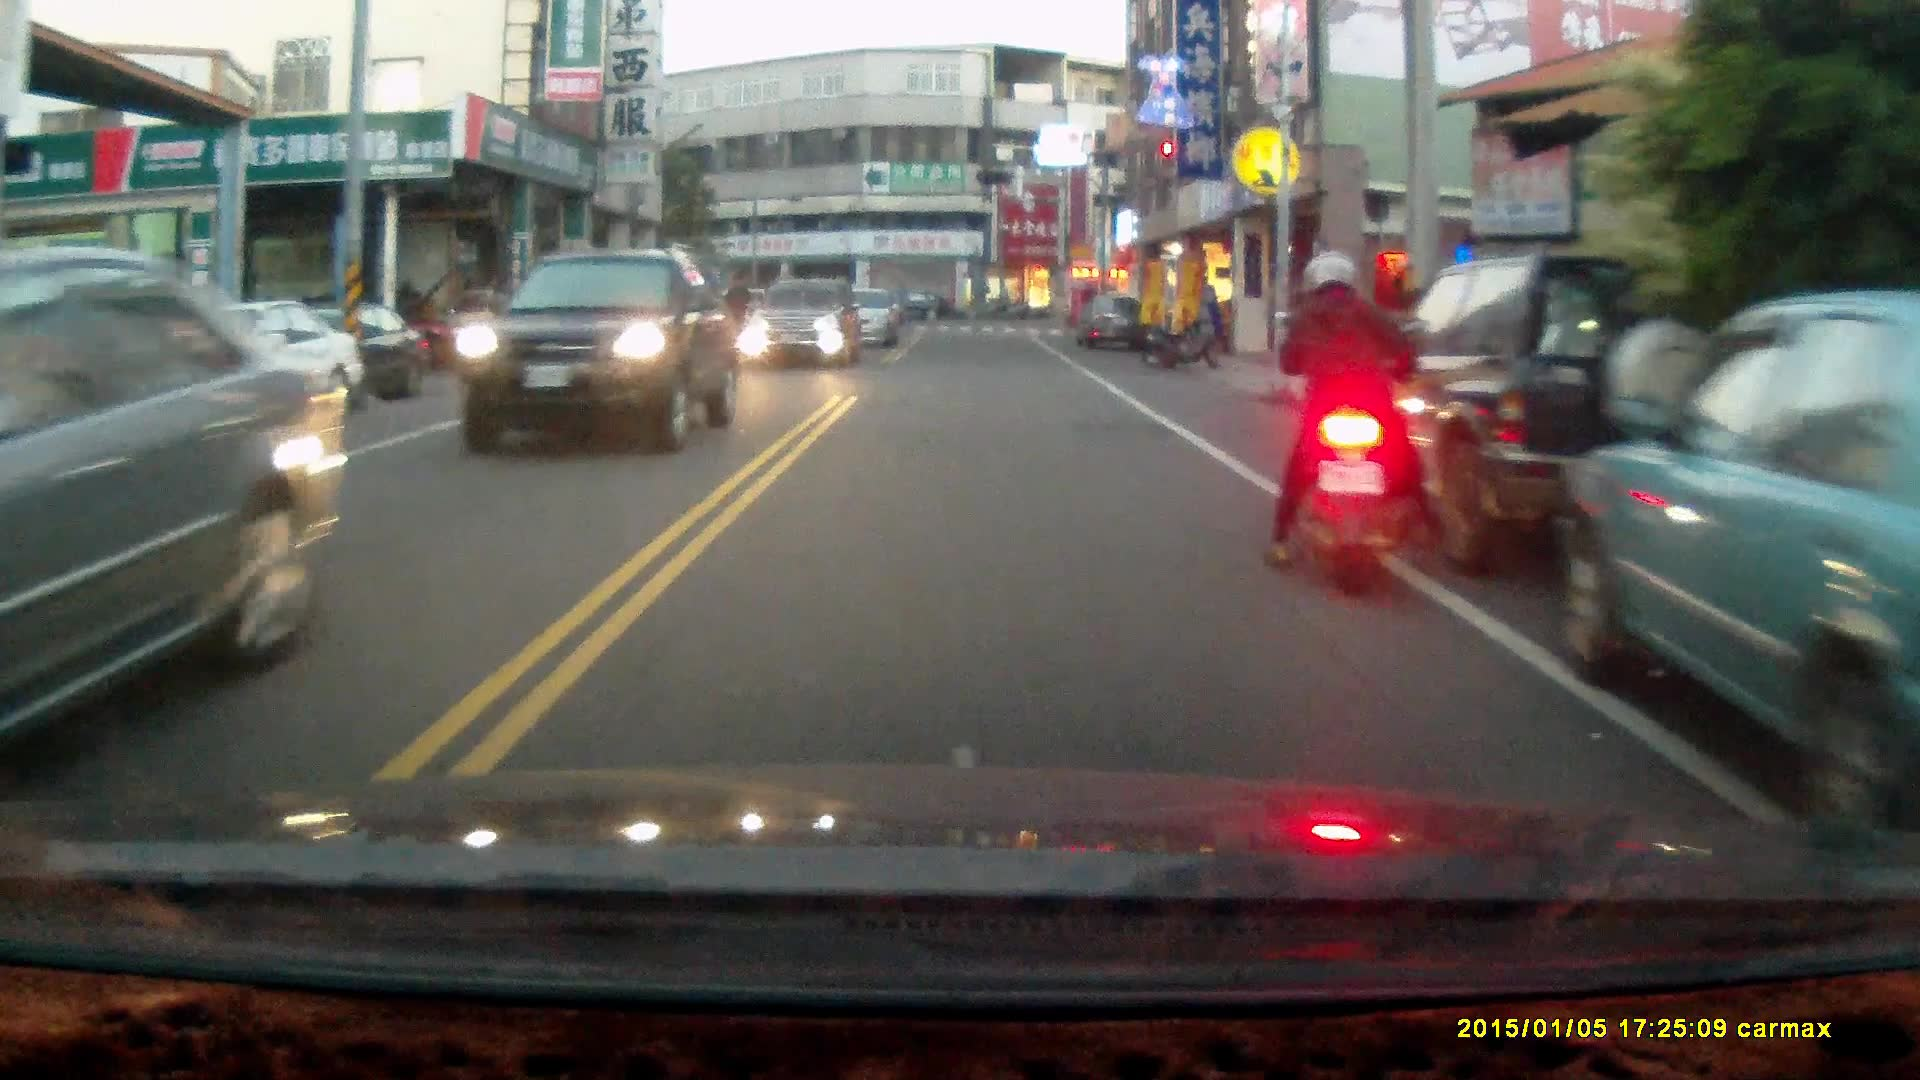rider: (1262, 247, 1439, 594)
vehicle: (1549, 290, 1920, 849), (1, 236, 347, 748), (1331, 251, 1789, 584), (457, 250, 736, 454), (103, 302, 374, 459), (736, 284, 872, 375), (1075, 293, 1151, 353)
